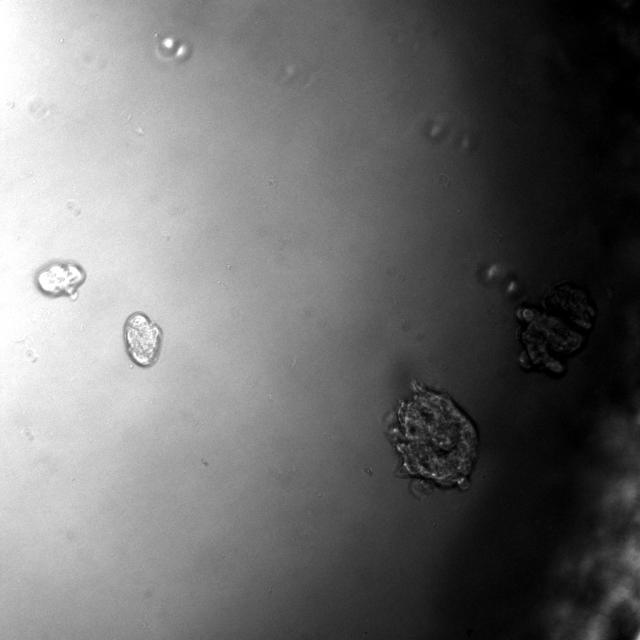organoid: (386, 380, 478, 497), (516, 282, 596, 376), (123, 311, 162, 366), (34, 260, 86, 298)
